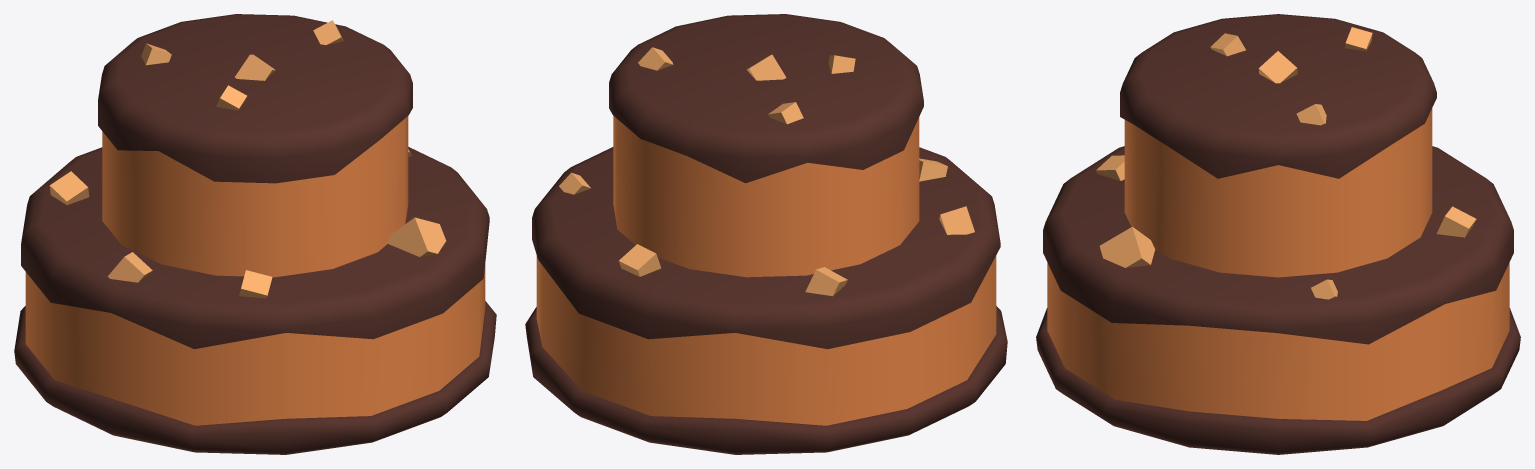
The model's file is choco_icon.fbx.
3 views of the same model, side by side, from view 1: azimuth 30°, elevation 25°; view 2: azimuth 150°, elevation 25°; view 3: azimuth 270°, elevation 25° (orthographic).
Visible parts, largest first — view 1: chocolate_icon; view 2: chocolate_icon; view 3: chocolate_icon.
Boxes of the visible parts, x1=… form: chocolate_icon: x1=14, y1=14, x2=496, y2=454; chocolate_icon: x1=525, y1=14, x2=1007, y2=454; chocolate_icon: x1=1036, y1=14, x2=1520, y2=454.
Bounding box in the file's own units: 44.6 × 30.74 × 44.58.
